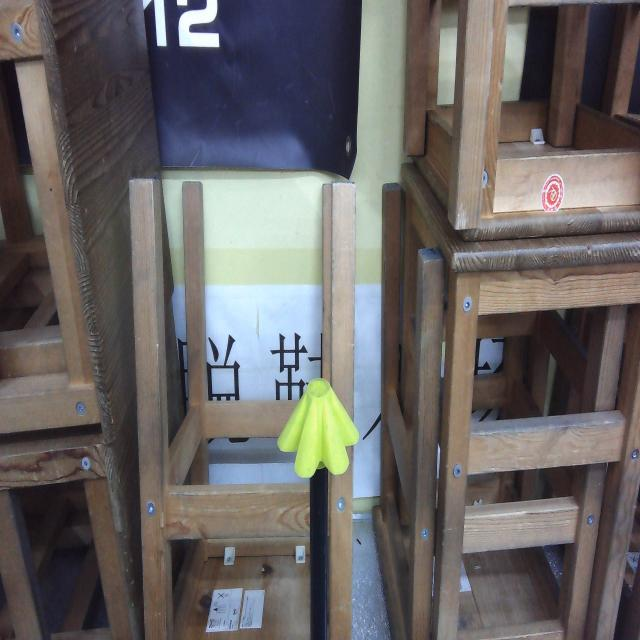Yellow-Stake-Head: (277, 378, 360, 480)
